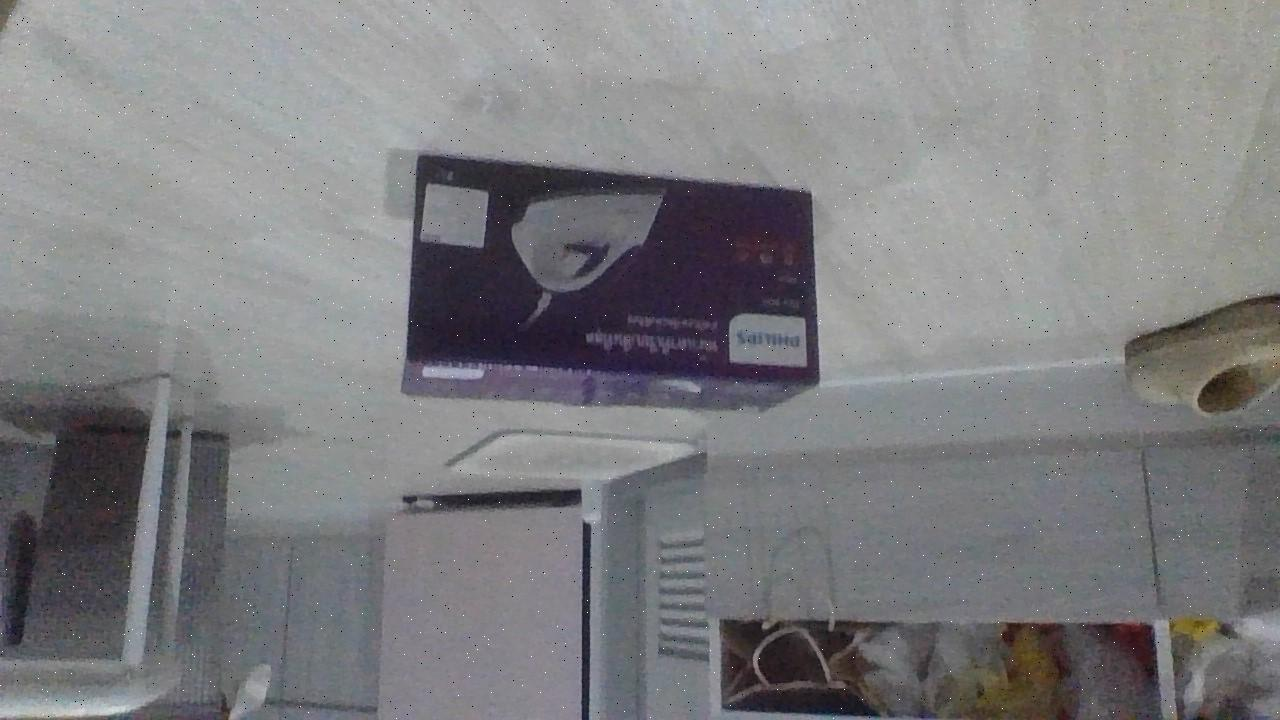IRON: (397, 150, 826, 418)
